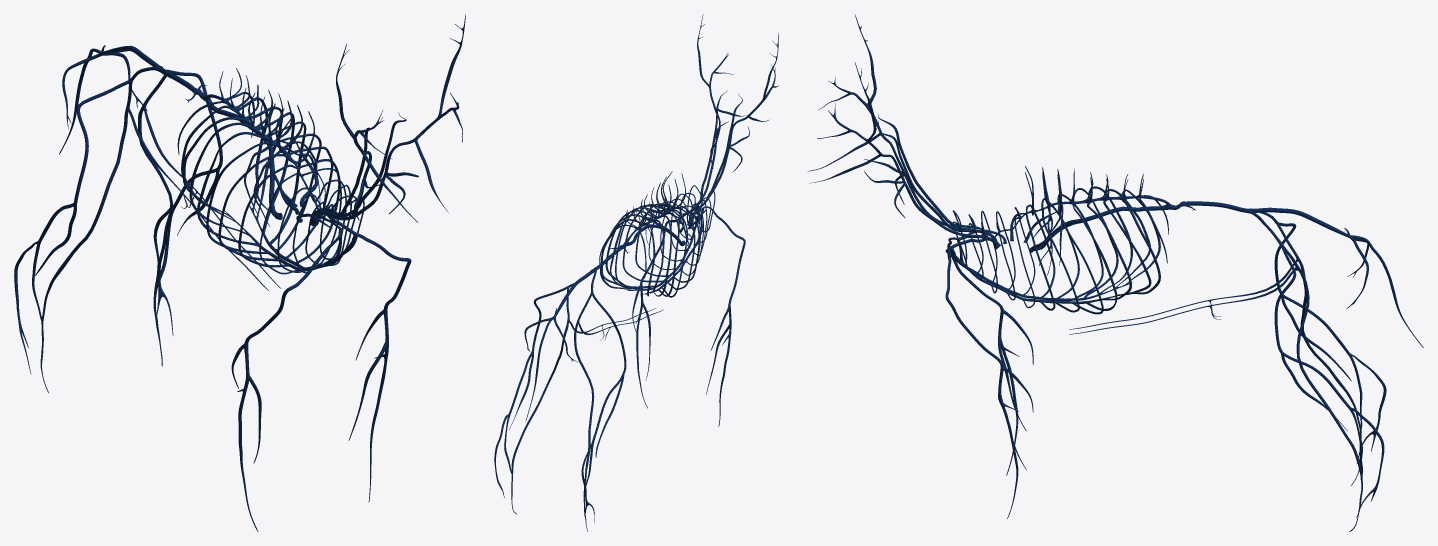
The model's file is Veins.fbx.
3 views of the same model, side by side, from view 1: azimuth 30°, elevation 25°; view 2: azimuth 150°, elevation 25°; view 3: azimuth 270°, elevation 25° (orthographic). The views are drawn at different scales.
Visible parts, largest first — view 1: Veins; view 2: Veins; view 3: Veins.
Boxes of the visible parts, left/top/right/bottom form: Veins: left=14, top=14, right=465, bottom=531; Veins: left=494, top=14, right=778, bottom=531; Veins: left=807, top=14, right=1423, bottom=531.
Size of the model in its own units: 40.52 by 149 by 177.
